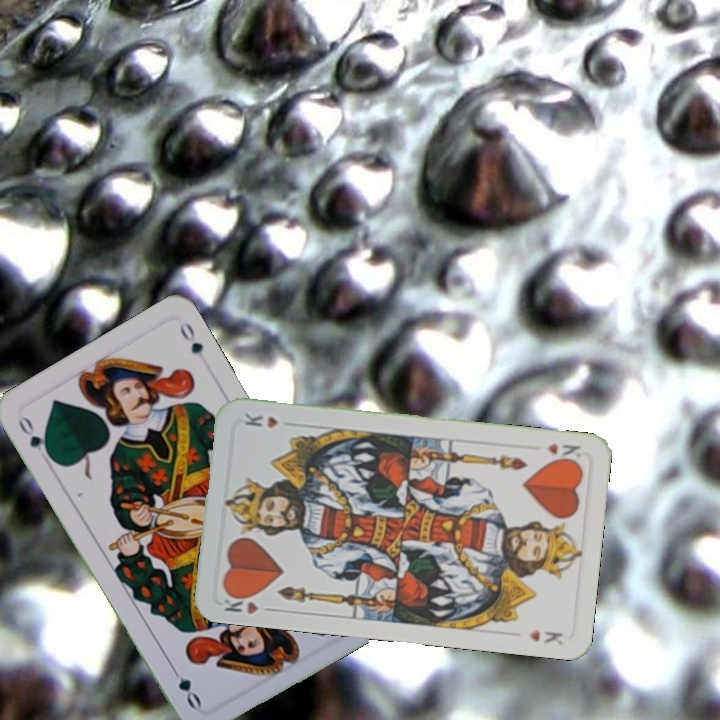GO: (14, 411, 55, 462)
HK: (220, 588, 277, 617), (543, 439, 583, 466)
